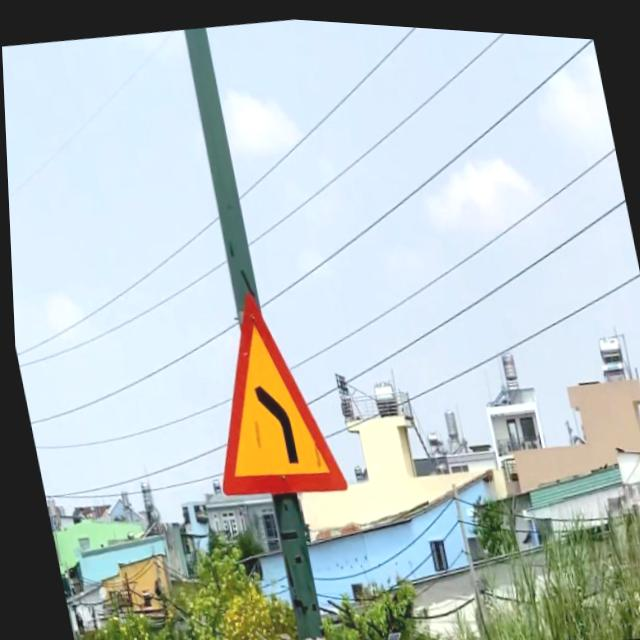cho ngoat nguy hiem vong ben trai: (178, 270, 349, 508)
